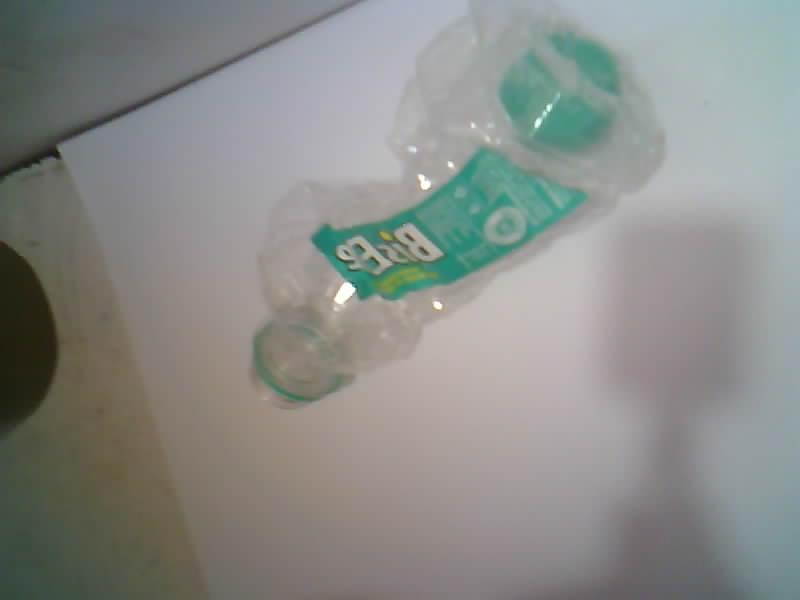non-biodegradable: (253, 0, 663, 403)
